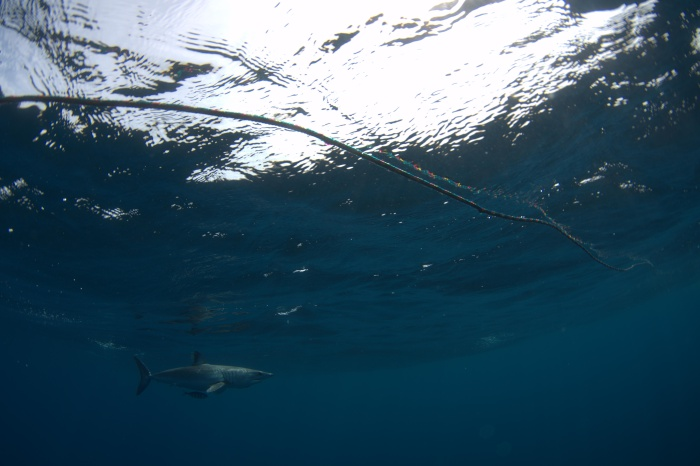Mako: (123, 335, 292, 404)
